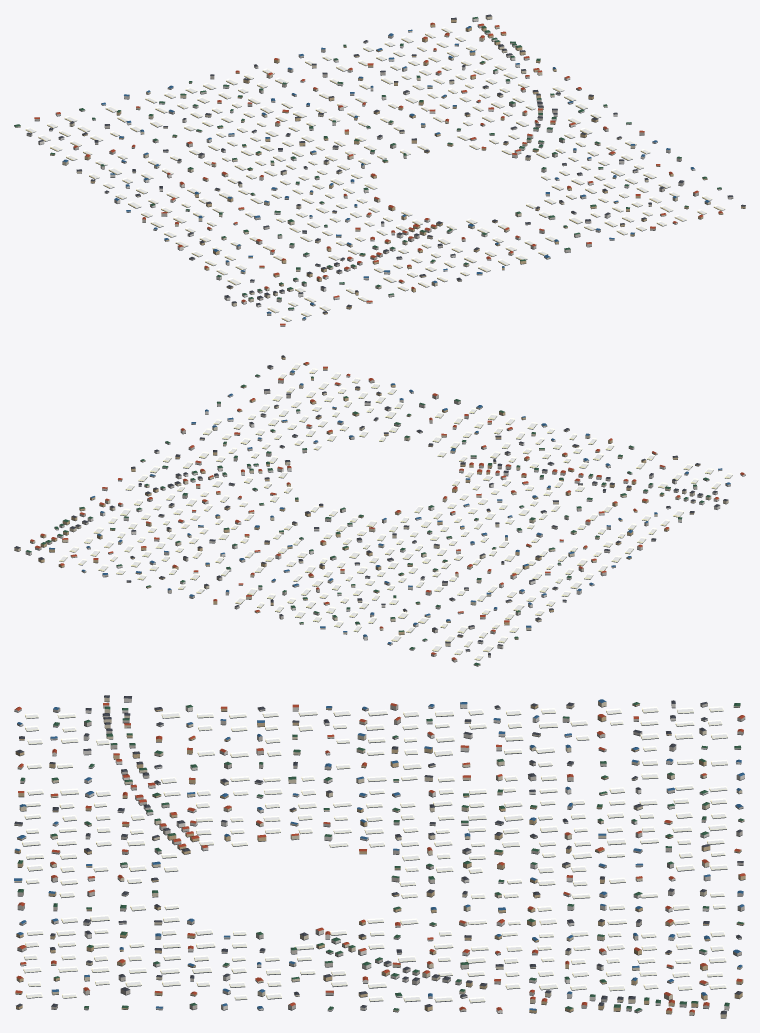
File: buildings_T_E04_S07.glb
3 views of the same model, one above another, from view 1: azimuth 30°, elevation 25°; view 2: azimuth 150°, elevation 25°; view 3: azimuth 270°, elevation 25° (orthographic). The views are drawn at different scales.
Parts seen in each view (by area): view 1: T_E04_S07_roofs_agri_greenhouse_arch, T_E04_S07_slope_seating_foundations, T_E04_S07_walls_wall_pastel_sand_gray, T_E04_S07_walls_wall_french_ochre_villa, T_E04_S07_walls_wall_dalat_cream_stucco, T_E04_S07_roofs_roof_slate_French_villa_hip, T_E04_S07_walls_wall_modern_warm_white, T_E04_S07_roofs_roof_terracotta_gable, T_E04_S07_roofs_roof_pine_green_hip, T_E04_S07_roofs_roof_highland_blue_gable; view 2: T_E04_S07_roofs_agri_greenhouse_arch, T_E04_S07_slope_seating_foundations, T_E04_S07_walls_wall_pastel_sand_gray, T_E04_S07_walls_wall_french_ochre_villa, T_E04_S07_walls_wall_dalat_cream_stucco, T_E04_S07_roofs_roof_slate_French_villa_hip, T_E04_S07_walls_wall_modern_warm_white, T_E04_S07_roofs_roof_terracotta_gable, T_E04_S07_roofs_roof_pine_green_hip, T_E04_S07_roofs_roof_highland_blue_gable; view 3: T_E04_S07_roofs_agri_greenhouse_arch, T_E04_S07_slope_seating_foundations, T_E04_S07_walls_wall_pastel_sand_gray, T_E04_S07_walls_wall_french_ochre_villa, T_E04_S07_walls_wall_dalat_cream_stucco, T_E04_S07_roofs_roof_slate_French_villa_hip, T_E04_S07_walls_wall_modern_warm_white, T_E04_S07_roofs_roof_terracotta_gable, T_E04_S07_roofs_roof_pine_green_hip, T_E04_S07_roofs_roof_highland_blue_gable.
Boxes of the visible parts, left/top/right/bottom form: T_E04_S07_roofs_agri_greenhouse_arch: left=25, top=27, right=725, bottom=321; T_E04_S07_slope_seating_foundations: left=14, top=19, right=745, bottom=326; T_E04_S07_walls_wall_pastel_sand_gray: left=26, top=25, right=733, bottom=315; T_E04_S07_walls_wall_french_ochre_villa: left=50, top=19, right=745, bottom=314; T_E04_S07_walls_wall_dalat_cream_stucco: left=14, top=16, right=710, bottom=306; T_E04_S07_roofs_roof_slate_French_villa_hip: left=27, top=14, right=745, bottom=313; T_E04_S07_walls_wall_modern_warm_white: left=38, top=18, right=695, bottom=325; T_E04_S07_roofs_roof_terracotta_gable: left=34, top=22, right=722, bottom=325; T_E04_S07_roofs_roof_pine_green_hip: left=14, top=17, right=721, bottom=309; T_E04_S07_roofs_roof_highland_blue_gable: left=62, top=26, right=709, bottom=319; T_E04_S07_roofs_agri_greenhouse_arch: left=59, top=363, right=732, bottom=660; T_E04_S07_slope_seating_foundations: left=14, top=358, right=745, bottom=666; T_E04_S07_walls_wall_pastel_sand_gray: left=35, top=366, right=730, bottom=661; T_E04_S07_walls_wall_french_ochre_villa: left=38, top=356, right=700, bottom=639; T_E04_S07_walls_wall_dalat_cream_stucco: left=14, top=372, right=728, bottom=666; T_E04_S07_roofs_roof_slate_French_villa_hip: left=14, top=355, right=728, bottom=655; T_E04_S07_walls_wall_modern_warm_white: left=25, top=375, right=745, bottom=651; T_E04_S07_roofs_roof_terracotta_gable: left=30, top=362, right=744, bottom=659; T_E04_S07_roofs_roof_pine_green_hip: left=26, top=374, right=710, bottom=665; T_E04_S07_roofs_roof_highland_blue_gable: left=49, top=370, right=730, bottom=644; T_E04_S07_roofs_agri_greenhouse_arch: left=22, top=706, right=727, bottom=1002; T_E04_S07_slope_seating_foundations: left=14, top=701, right=745, bottom=1018; T_E04_S07_walls_wall_pastel_sand_gray: left=17, top=703, right=745, bottom=1012; T_E04_S07_walls_wall_french_ochre_villa: left=14, top=703, right=745, bottom=1013; T_E04_S07_walls_wall_dalat_cream_stucco: left=14, top=697, right=744, bottom=1018; T_E04_S07_roofs_roof_slate_French_villa_hip: left=14, top=695, right=743, bottom=1014; T_E04_S07_walls_wall_modern_warm_white: left=14, top=698, right=744, bottom=1013; T_E04_S07_roofs_roof_terracotta_gable: left=14, top=703, right=745, bottom=1012; T_E04_S07_roofs_roof_pine_green_hip: left=17, top=702, right=744, bottom=1011; T_E04_S07_roofs_roof_highland_blue_gable: left=14, top=699, right=744, bottom=1010.
Bounding box in the file's own units: 1822 × 32.38 × 1754.
